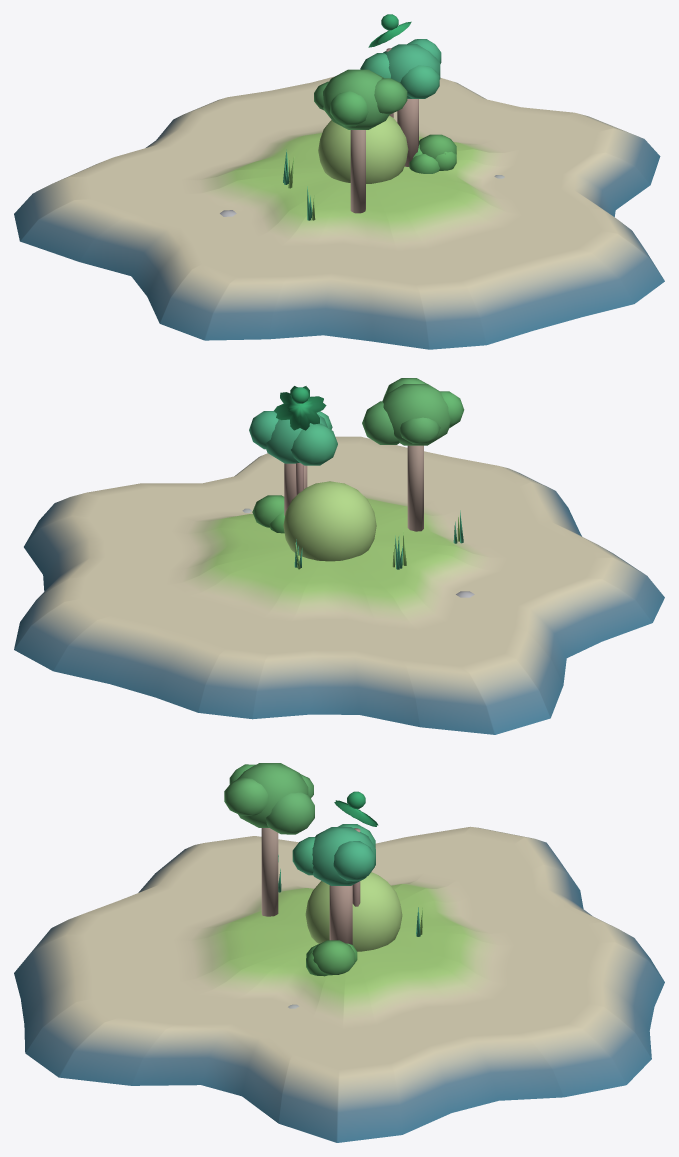
The model's file is terrain_island_13.glb.
3 renders of one model, top to bottom at view 1: azimuth 30°, elevation 25°; view 2: azimuth 150°, elevation 25°; view 3: azimuth 270°, elevation 25°, orthographic. The views are drawn at different scales.
Visible parts, largest first — view 1: island_terrain, hill0, veg_tree2_tree_crown_c, veg_tree2_tree_trunk, veg_tree0_tree_crown_c, veg_tree2_tree_crown_2, veg_tree0_tree_crown_1, veg_tree0_tree_trunk, veg_tree2_tree_crown_1, veg_shrub0_ball0, veg_tree0_tree_crown_2; view 2: island_terrain, hill0, veg_tree2_tree_crown_c, veg_tree0_tree_crown_2, veg_tree2_tree_trunk, veg_tree0_tree_crown_c, veg_tree2_tree_crown_0, veg_tree2_tree_crown_3, veg_shrub0_ball0, veg_tree0_tree_crown_0, veg_tree0_tree_trunk; view 3: island_terrain, hill0, veg_tree2_tree_crown_c, veg_tree0_tree_crown_c, veg_tree2_tree_crown_0, veg_tree2_tree_trunk, veg_tree0_tree_crown_0, veg_tree0_tree_trunk, veg_tree2_tree_crown_1, veg_shrub0_ball0, veg_tree0_tree_crown_1.
Boxes of the visible parts, <box> form: island_terrain: <box>14,76,664,349</box>; hill0: <box>318,115,408,183</box>; veg_tree2_tree_crown_c: <box>323,69,389,129</box>; veg_tree2_tree_trunk: <box>350,130,365,213</box>; veg_tree0_tree_crown_c: <box>383,44,440,98</box>; veg_tree2_tree_crown_2: <box>330,91,368,126</box>; veg_tree0_tree_crown_1: <box>400,65,439,98</box>; veg_tree0_tree_trunk: <box>397,99,418,166</box>; veg_tree2_tree_crown_1: <box>374,78,407,114</box>; veg_shrub0_ball0: <box>419,134,456,159</box>; veg_tree0_tree_crown_2: <box>360,53,390,78</box>; island_terrain: <box>14,436,664,734</box>; hill0: <box>283,481,376,561</box>; veg_tree2_tree_crown_c: <box>382,384,450,445</box>; veg_tree0_tree_crown_2: <box>291,423,337,465</box>; veg_tree2_tree_trunk: <box>407,445,423,531</box>; veg_tree0_tree_crown_c: <box>266,414,327,463</box>; veg_tree2_tree_crown_0: <box>362,401,399,444</box>; veg_tree2_tree_crown_3: <box>399,417,440,443</box>; veg_shrub0_ball0: <box>252,495,284,527</box>; veg_tree0_tree_crown_0: <box>249,411,278,449</box>; veg_tree0_tree_trunk: <box>284,463,307,515</box>; island_terrain: <box>14,826,664,1142</box>; hill0: <box>305,872,402,951</box>; veg_tree2_tree_crown_c: <box>237,763,308,827</box>; veg_tree0_tree_crown_c: <box>312,827,375,885</box>; veg_tree2_tree_crown_0: <box>266,792,314,834</box>; veg_tree2_tree_trunk: <box>261,828,278,916</box>; veg_tree0_tree_crown_0: <box>333,841,374,881</box>; veg_tree0_tree_trunk: <box>329,885,352,944</box>; veg_tree2_tree_crown_1: <box>224,777,267,815</box>; veg_shrub0_ball0: <box>311,940,355,975</box>; veg_tree0_tree_crown_1: <box>292,837,315,875</box>.
Size of the model in its own units: 173 by 57.79 by 160.
